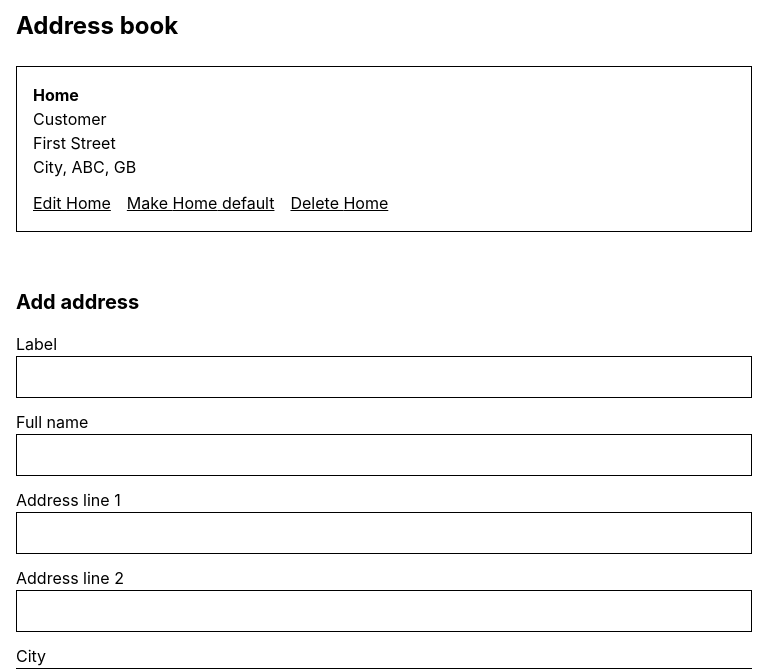
address book › requires confirmation before deleting an address
Click the button "Delete Home". click: (339, 203)
box: [290, 191, 388, 215]
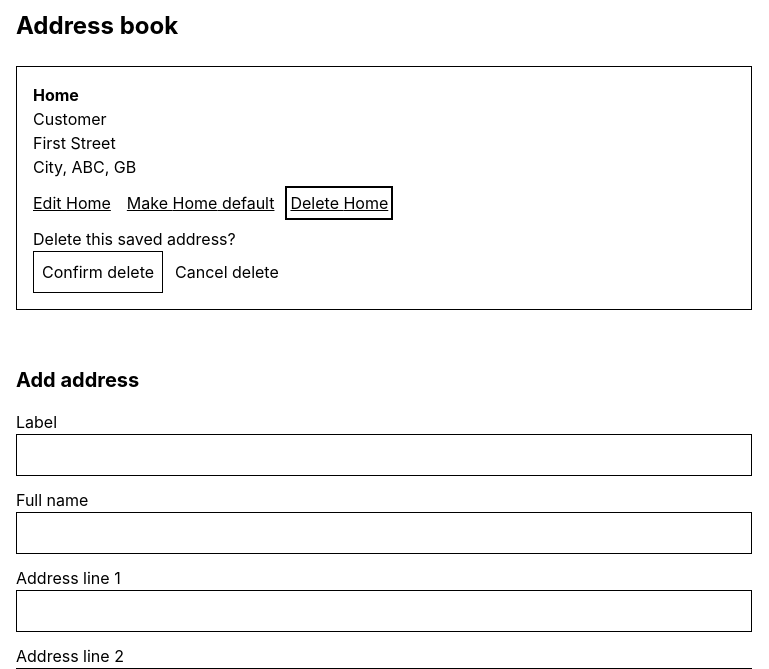
Click the button "Confirm delete". click: (98, 272)
box: [33, 251, 163, 293]
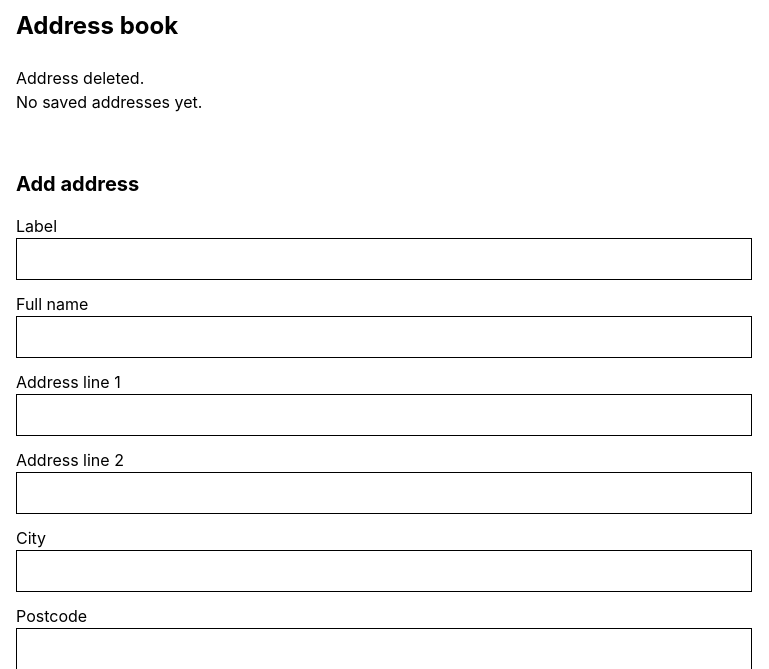
Expected: the text "Address deleted." is shown, [16, 68, 144, 88]
Expected: the text "No saved addresses yet." is shown, [16, 92, 202, 112]
